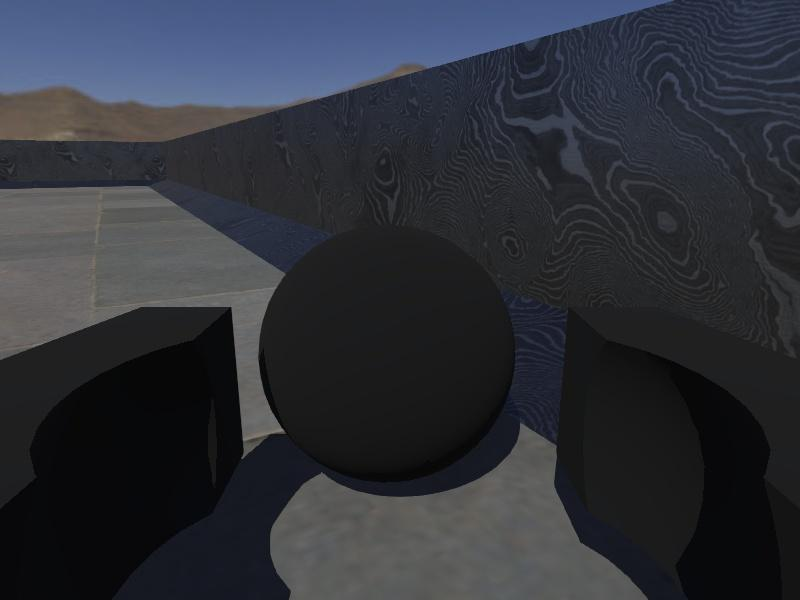black ball: (258, 224, 517, 482)
